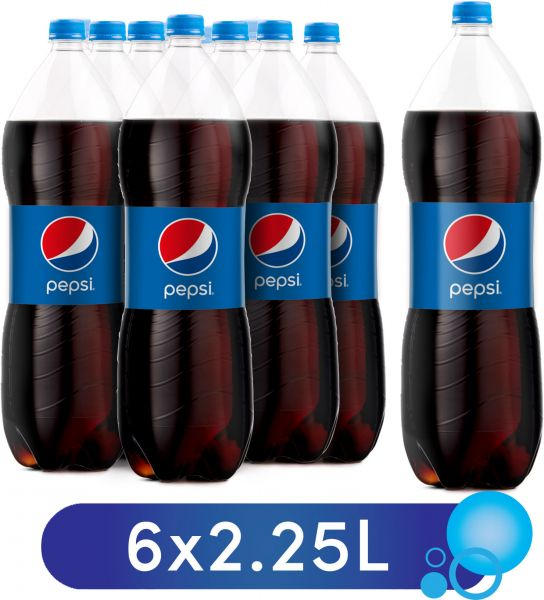pepsi: (158, 205, 217, 277), (442, 212, 504, 273), (157, 213, 217, 274), (158, 216, 217, 277), (158, 216, 217, 276), (39, 213, 97, 270), (247, 211, 305, 267), (248, 211, 305, 267), (188, 205, 217, 277), (329, 215, 351, 267)
